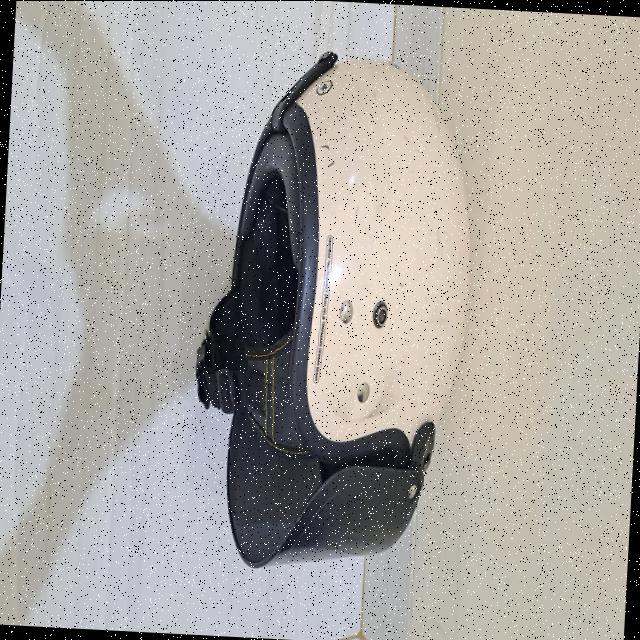Helm: (174, 31, 494, 588)
